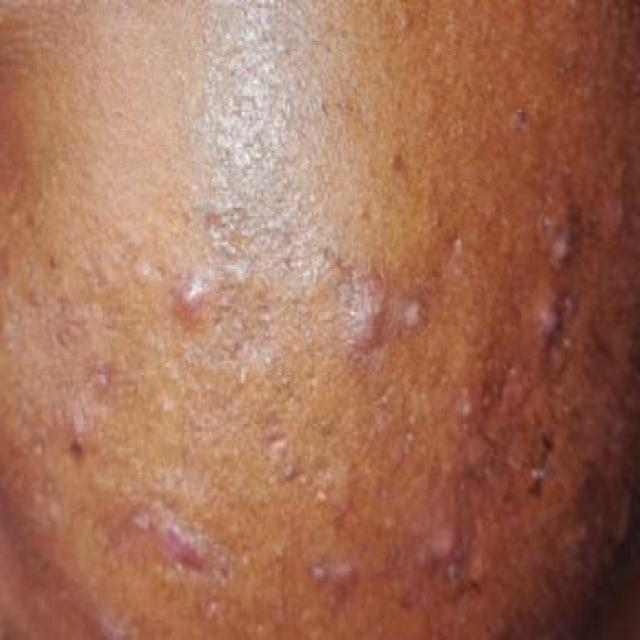papules: (328, 281, 383, 349), (168, 271, 218, 324), (324, 556, 368, 606), (438, 518, 472, 566), (418, 536, 442, 581)
pustules: (532, 220, 591, 288), (395, 283, 443, 351)
